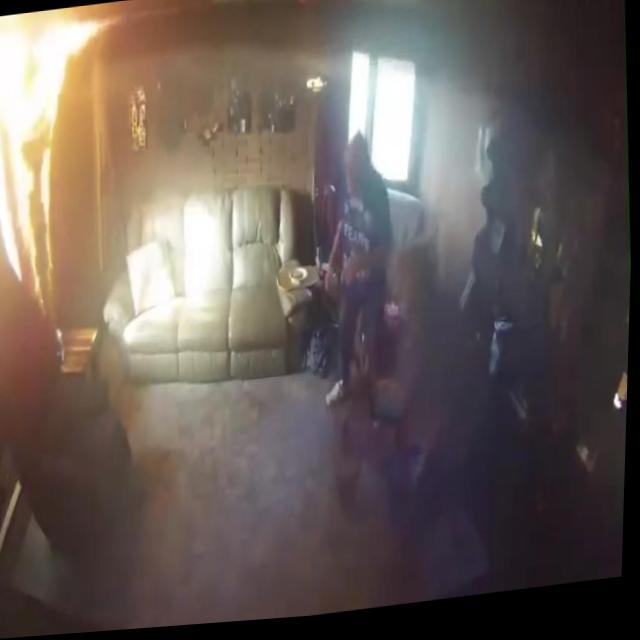fire: (0, 4, 120, 307)
